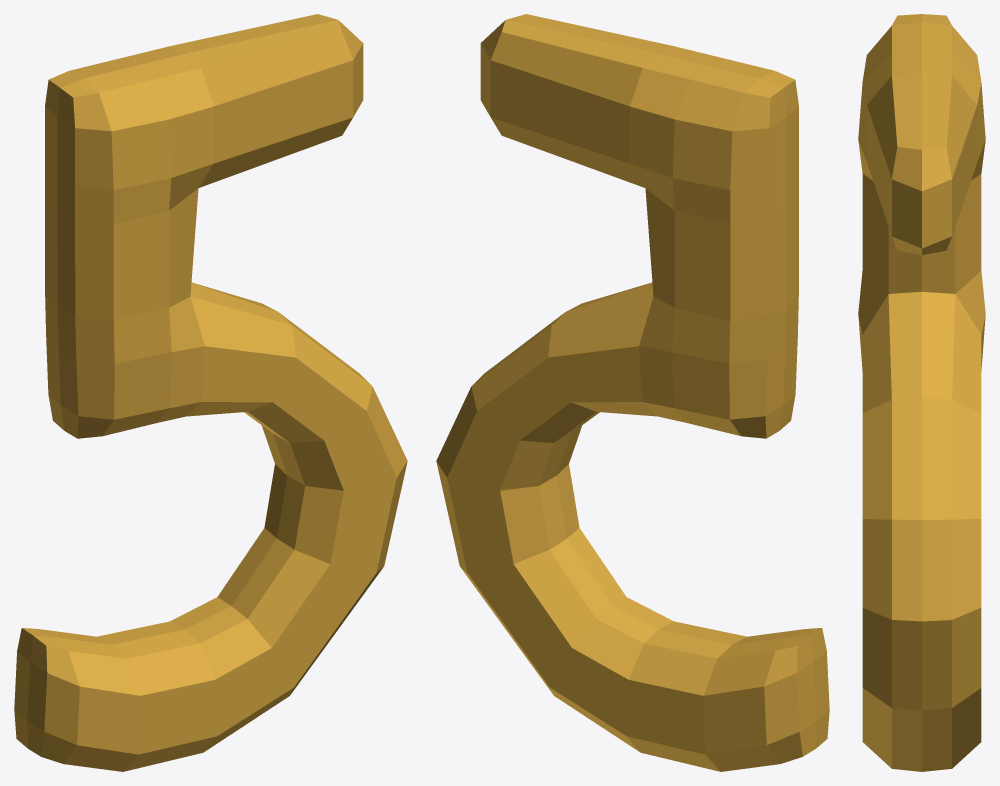
The picture shows the model from 3 angles, left to right: view 1: azimuth 30°, elevation 25°; view 2: azimuth 150°, elevation 25°; view 3: azimuth 270°, elevation 25°; orthographic projection.
Visible parts, largest first — view 1: 5; view 2: 5; view 3: 5.
Boxes of the visible parts, x1,y1,x2,y2 form: 5: (14,14,407,771); 5: (436,14,829,771); 5: (858,14,985,771).
Bounding box in the file's own units: 37.71 × 67.69 × 11.3.
